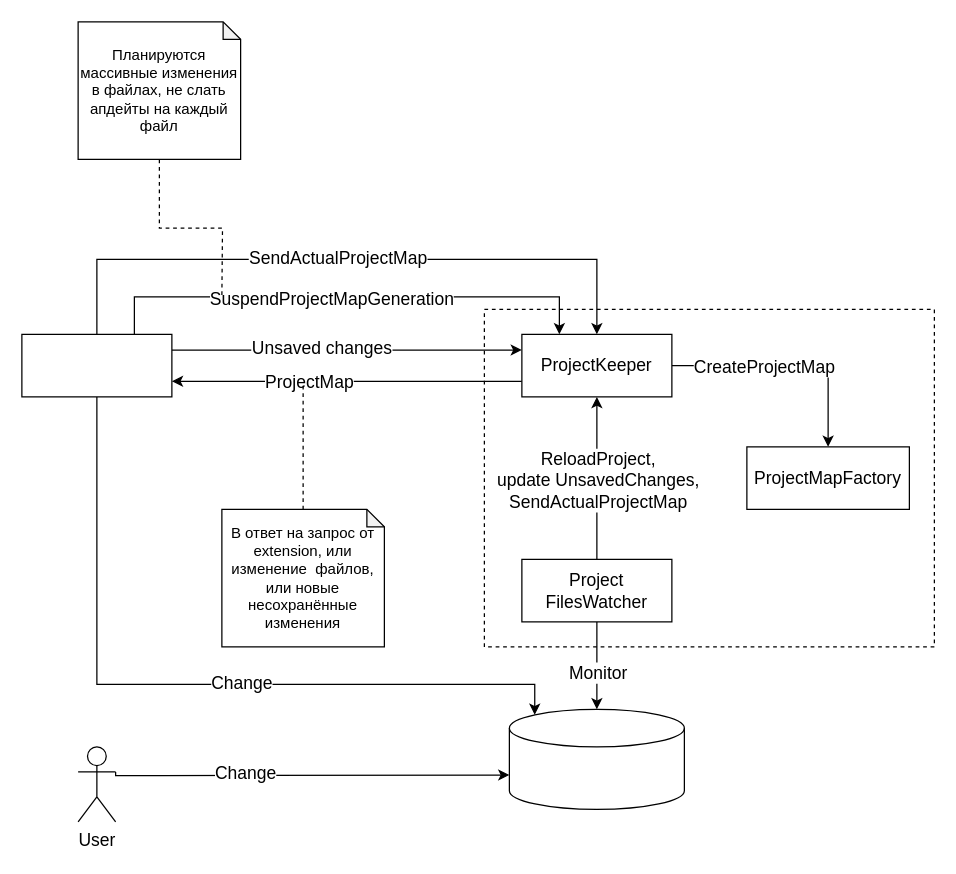
The diagram is 956 pixels wide and 874 high, and some of its shapes have lost their labels. Here are the shapes that lost their labels. From the top down, the box of each, then its label:
(21, 333, 172, 397): VS Code Extension
(483, 308, 934, 647): LanguageServer
(508, 708, 684, 809): File system
